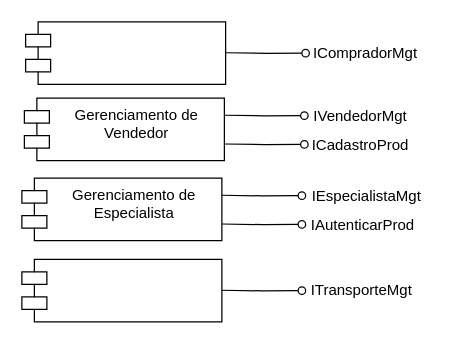
Image size: 449x344. Some labels were removed from this diagram. Each missing label, with the centre of its shape:
"Gerenciamento de Comprador" belongs at pixel 125 52.
"Gerenciamento de Transporte" belongs at pixel 121 290.
